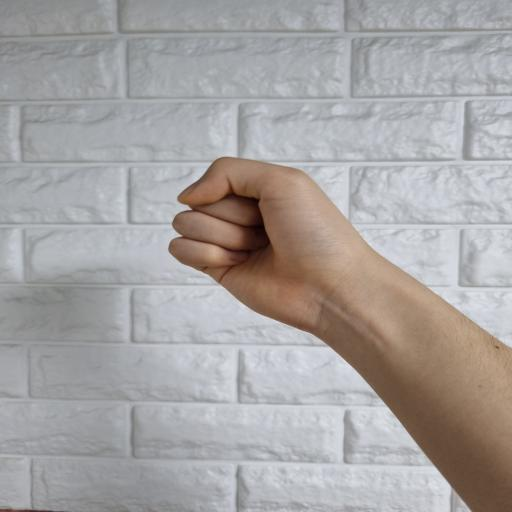Rock: (169, 156, 512, 512)
